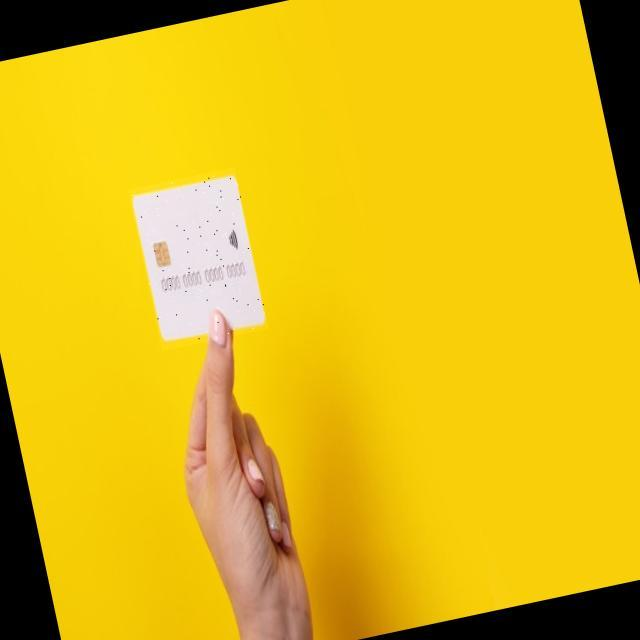payment_card: (131, 174, 266, 342)
